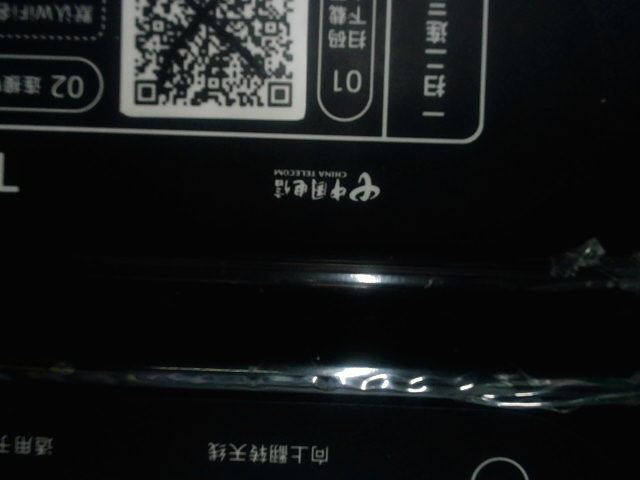AB_ChinaTelecom: (269, 160, 381, 207)
